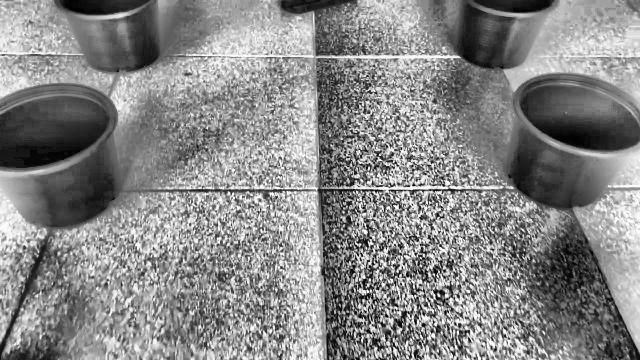pot: (506, 74, 640, 210), (0, 84, 123, 230)
